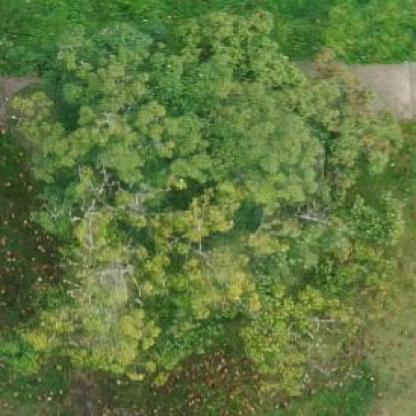Deciduous Tree: (3, 6, 405, 379)
